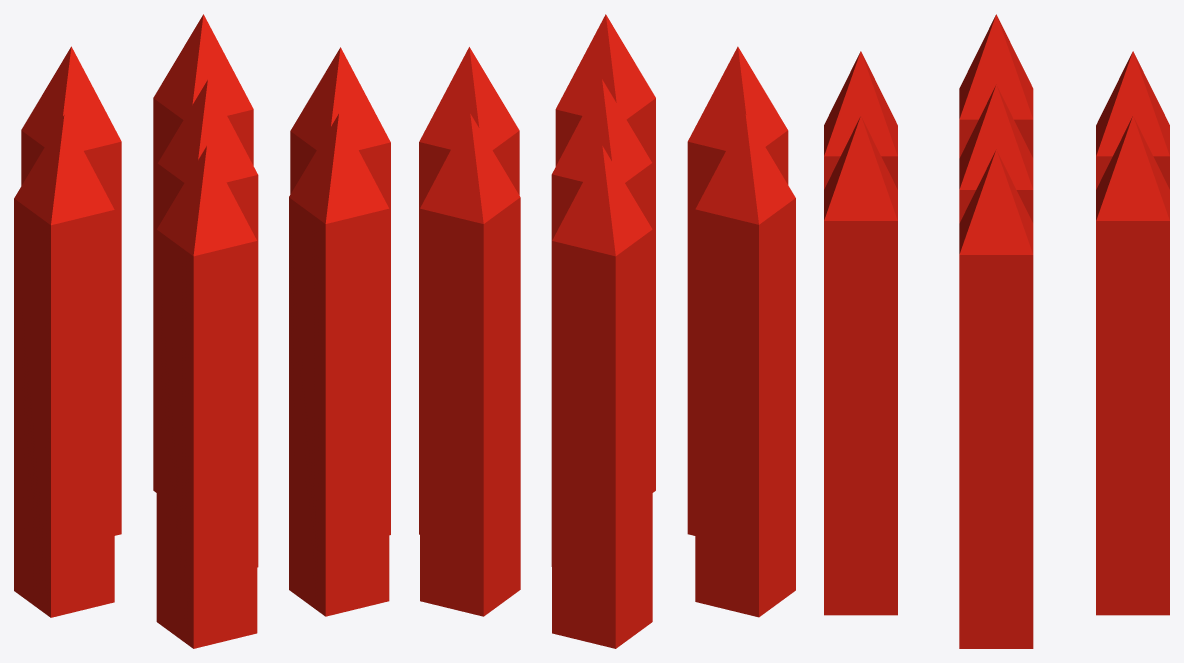
Rendered from duriiBaru.fbx.
3 views of the same model, side by side, from view 1: azimuth 30°, elevation 25°; view 2: azimuth 150°, elevation 25°; view 3: azimuth 270°, elevation 25° (orthographic).
Visible parts, largest first — view 1: Cube.001; view 2: Cube.001; view 3: Cube.001.
Part boxes in pixels (left/top/right/bottom): Cube.001: left=14, top=14, right=390, bottom=648; Cube.001: left=419, top=14, right=795, bottom=648; Cube.001: left=824, top=14, right=1169, bottom=648.
Size of the model in its own units: 339 by 460 by 298.
